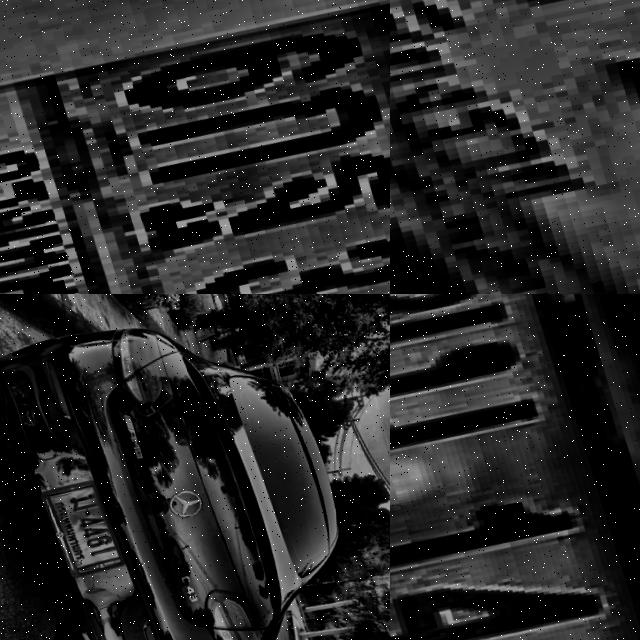license-plate: (0, 0, 390, 294), (390, 294, 640, 640), (390, 0, 640, 294), (32, 470, 126, 581)
